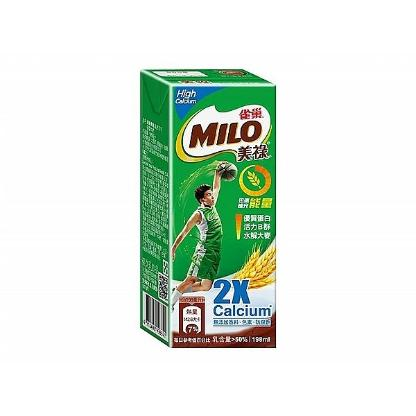Others: (141, 69, 276, 348)
